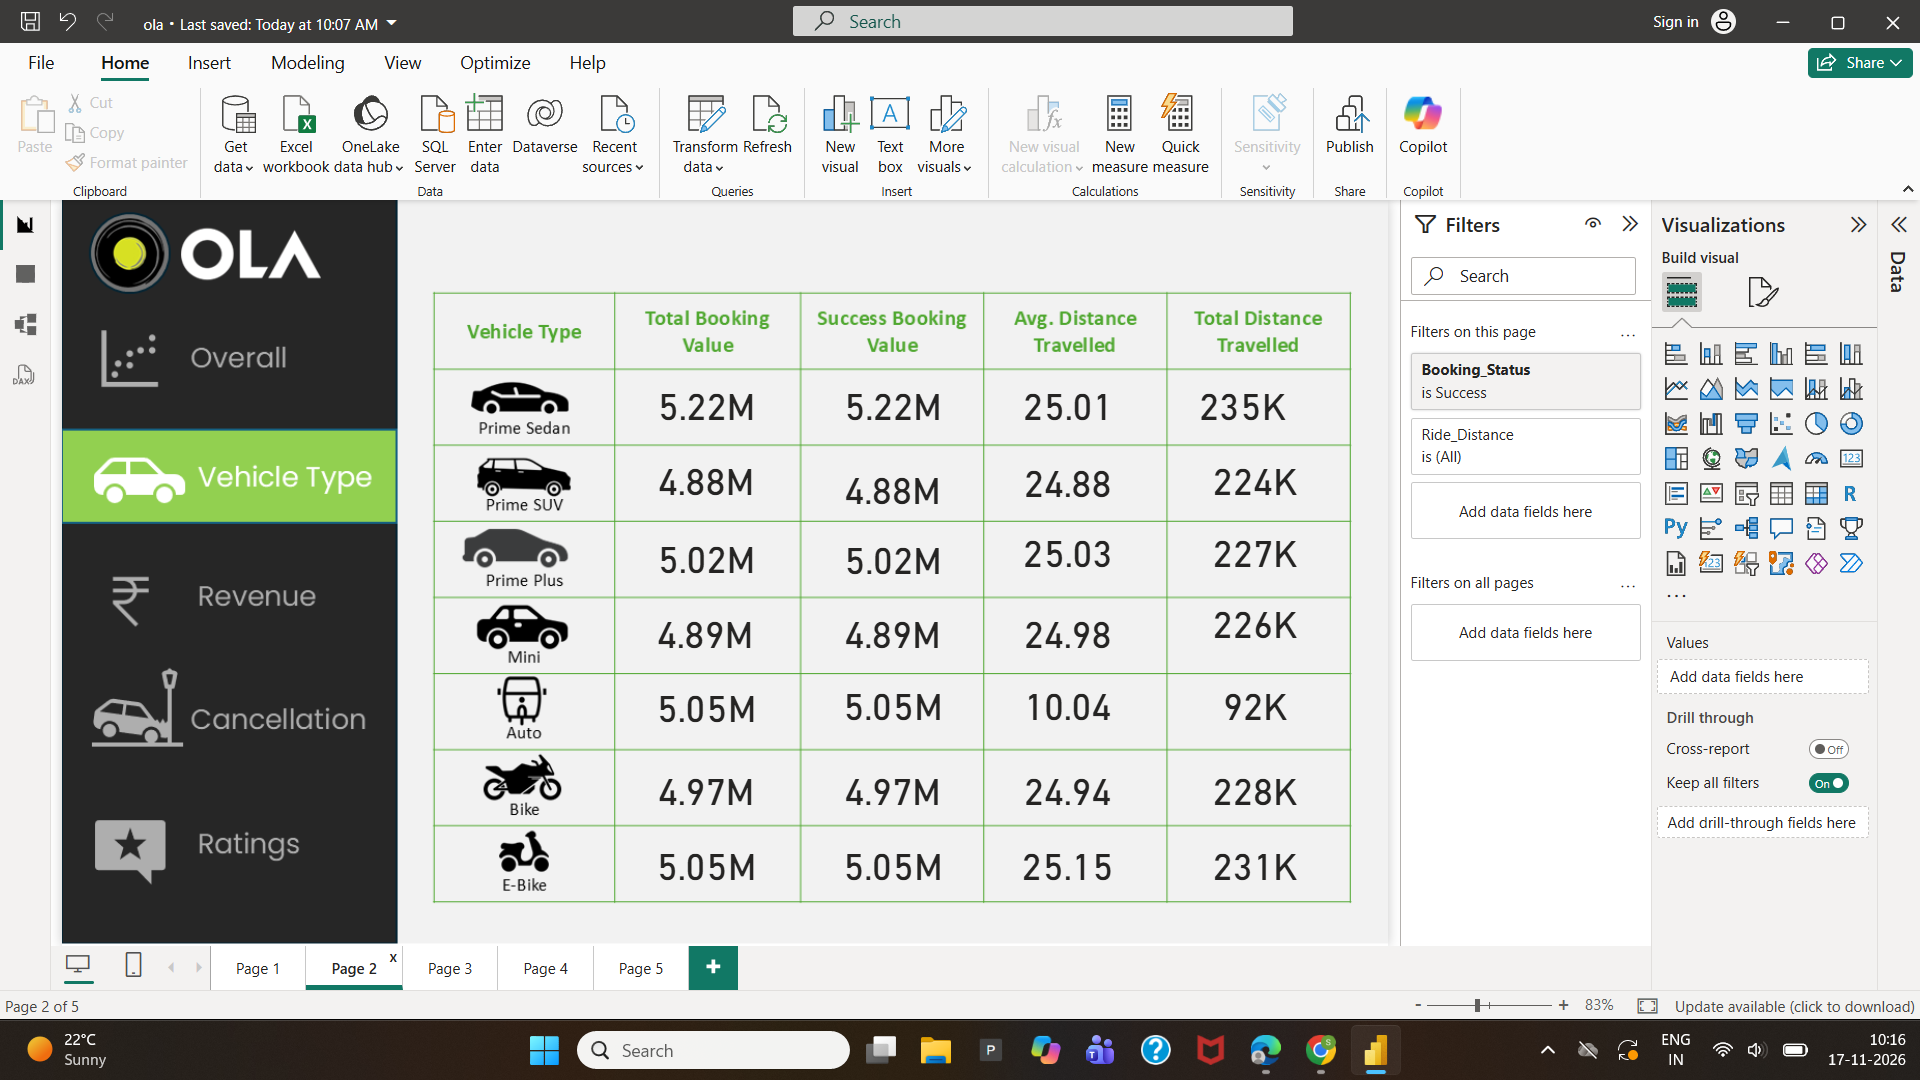

What the dashboard file says about the page in this screenshot:
{"tool":"powerbi","page":{"name":"Page 2","canvas":[1280,720],"ordinal":1},"visuals":[{"type":"card","fields":{"Values":["Sum(Bookings-July.Booking_Value)"]},"box":[531.5,166.1,179.9,60.9],"z":1000},{"type":"card","fields":{"Values":["Sum(Bookings-July.Booking_Value)"]},"box":[531.5,239.4,179.9,60.9],"z":2000},{"type":"card","fields":{"Values":["Sum(Bookings-July.Booking_Value)"]},"box":[531.5,314.2,179.9,60.9],"z":3000},{"type":"card","fields":{"Values":["Sum(Bookings-July.Booking_Value)"]},"box":[531.5,456.7,179.9,60.9],"z":4000},{"type":"card","fields":{"Values":["Sum(Bookings-July.Booking_Value)"]},"box":[531.5,538.4,179.9,60.9],"z":5000},{"type":"card","fields":{"Values":["Sum(Bookings-July.Booking_Value)"]},"box":[531.3,385.6,180.3,61],"z":6000},{"type":"card","fields":{"Values":["Sum(Bookings-July.Booking_Value)"]},"box":[531.5,610.4,179.9,60.9],"z":7000},{"type":"card","fields":{"Values":["Sum(Bookings-July.Booking_Value)"]},"box":[711.6,166.5,180.3,61],"z":8000},{"type":"card","fields":{"Values":["Sum(Bookings-July.Booking_Value)"]},"box":[711.6,385.6,180.3,61],"z":9000},{"type":"card","fields":{"Values":["Sum(Bookings-July.Booking_Value)"]},"box":[711.6,314.9,180.3,61],"z":10000},{"type":"card","fields":{"Values":["Sum(Bookings-July.Booking_Value)"]},"box":[711.6,246.9,180.3,61],"z":11000},{"type":"card","fields":{"Values":["Sum(Bookings-July.Booking_Value)"]},"box":[711.6,456.4,180.3,61],"z":12000},{"type":"card","fields":{"Values":["Sum(Bookings-July.Booking_Value)"]},"box":[711.6,538.2,180.3,61],"z":13000},{"type":"card","fields":{"Values":["Sum(Bookings-July.Booking_Value)"]},"box":[711.6,610.3,180.3,61],"z":14000},{"type":"card","fields":{"Values":["Avg(Bookings-July.Ride_Distance)"]},"box":[880.8,166.5,180.3,61],"z":15000},{"type":"card","fields":{"Values":["Avg(Bookings-July.Ride_Distance)"]},"box":[880.8,240,180.3,61],"z":16000},{"type":"card","fields":{"Values":["Avg(Bookings-July.Ride_Distance)"]},"box":[880.8,307.9,180.3,61],"z":17000},{"type":"card","fields":{"Values":["Avg(Bookings-July.Ride_Distance)"]},"box":[880.8,385.6,180.3,61],"z":18000},{"type":"card","fields":{"Values":["Avg(Bookings-July.Ride_Distance)"]},"box":[880.8,538.2,180.3,61],"z":19000},{"type":"card","fields":{"Values":["Avg(Bookings-July.Ride_Distance)"]},"box":[880.8,456.4,180.3,61],"z":20000},{"type":"card","fields":{"Values":["Avg(Bookings-July.Ride_Distance)"]},"box":[880.8,610.3,180.3,61],"z":21000},{"type":"card","fields":{"Values":["Sum(Bookings-July.Ride_Distance)"]},"box":[1050,166.5,180.3,61],"z":22000},{"type":"card","fields":{"Values":["Sum(Bookings-July.Ride_Distance)"]},"box":[1061.1,456.4,180.3,61],"z":23000},{"type":"card","fields":{"Values":["Sum(Bookings-July.Ride_Distance)"]},"box":[1061.1,375.9,180.3,61],"z":24000},{"type":"card","fields":{"Values":["Sum(Bookings-July.Ride_Distance)"]},"box":[1061.1,307.9,180.3,61],"z":25000},{"type":"card","fields":{"Values":["Sum(Bookings-July.Ride_Distance)"]},"box":[1061.1,244.1,180.3,51.3],"z":26000},{"type":"card","fields":{"Values":["Sum(Bookings-July.Ride_Distance)"]},"box":[1061.1,610.3,180.3,61],"z":27000},{"type":"card","fields":{"Values":["Sum(Bookings-July.Ride_Distance)"]},"box":[1061.1,538.2,180.3,61],"z":28000}]}

Visuals, with their boxes on the page's 1280x720 design canvas (x1, y1, x2, y2). These are canvas units, not pixel positions in the 1920x1080 screenshot, which may show the page scaled, cropped or inside an application window:
card - Sum(Bookings-July.Booking_Value): 532:166:711:227
card - Sum(Bookings-July.Booking_Value): 532:239:711:300
card - Sum(Bookings-July.Booking_Value): 532:314:711:375
card - Sum(Bookings-July.Booking_Value): 532:457:711:518
card - Sum(Bookings-July.Booking_Value): 532:538:711:599
card - Sum(Bookings-July.Booking_Value): 531:386:712:447
card - Sum(Bookings-July.Booking_Value): 532:610:711:671
card - Sum(Bookings-July.Booking_Value): 712:166:892:228
card - Sum(Bookings-July.Booking_Value): 712:386:892:447
card - Sum(Bookings-July.Booking_Value): 712:315:892:376
card - Sum(Bookings-July.Booking_Value): 712:247:892:308
card - Sum(Bookings-July.Booking_Value): 712:456:892:517
card - Sum(Bookings-July.Booking_Value): 712:538:892:599
card - Sum(Bookings-July.Booking_Value): 712:610:892:671
card - Avg(Bookings-July.Ride_Distance): 881:166:1061:228
card - Avg(Bookings-July.Ride_Distance): 881:240:1061:301
card - Avg(Bookings-July.Ride_Distance): 881:308:1061:369
card - Avg(Bookings-July.Ride_Distance): 881:386:1061:447
card - Avg(Bookings-July.Ride_Distance): 881:538:1061:599
card - Avg(Bookings-July.Ride_Distance): 881:456:1061:517
card - Avg(Bookings-July.Ride_Distance): 881:610:1061:671
card - Sum(Bookings-July.Ride_Distance): 1050:166:1230:228
card - Sum(Bookings-July.Ride_Distance): 1061:456:1241:517
card - Sum(Bookings-July.Ride_Distance): 1061:376:1241:437
card - Sum(Bookings-July.Ride_Distance): 1061:308:1241:369
card - Sum(Bookings-July.Ride_Distance): 1061:244:1241:295
card - Sum(Bookings-July.Ride_Distance): 1061:610:1241:671
card - Sum(Bookings-July.Ride_Distance): 1061:538:1241:599
